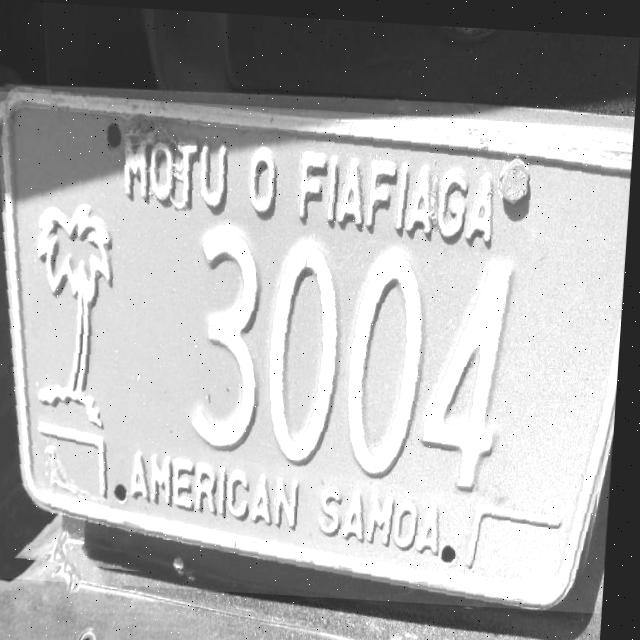LicensePlate: (0, 91, 634, 606)
